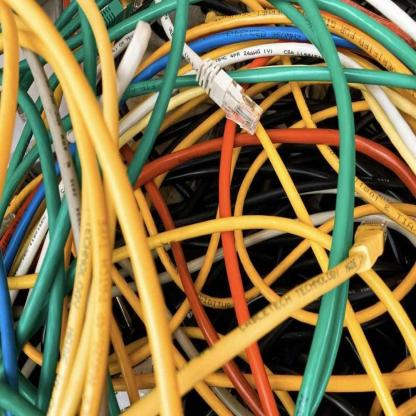wires: (1, 1, 416, 415)
